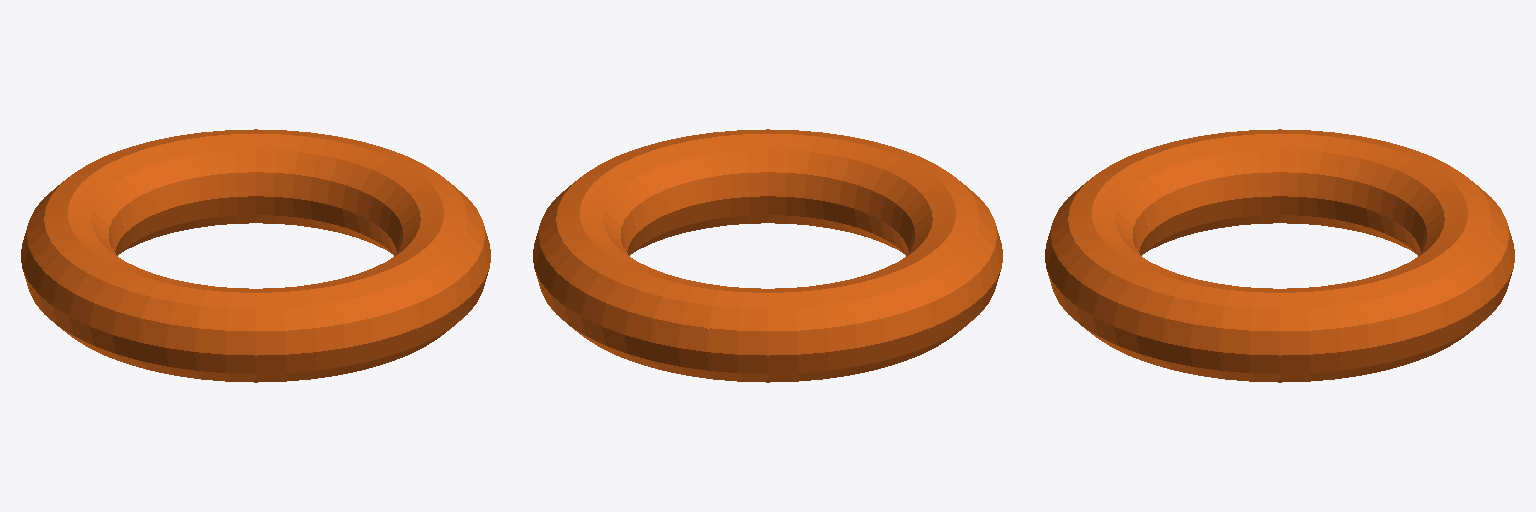
The picture shows the model from 3 angles: view 1: azimuth 30°, elevation 25°; view 2: azimuth 150°, elevation 25°; view 3: azimuth 270°, elevation 25°; orthographic projection.
Visible parts, largest first — view 1: トーラス; view 2: トーラス; view 3: トーラス.
Part boxes in pixels (bbox=[...]): トーラス: bbox=[21, 129, 490, 382]; トーラス: bbox=[533, 129, 1002, 382]; トーラス: bbox=[1045, 129, 1514, 382].
Size of the model in its own units: 2.5 by 0.5 by 2.5.
1 materials, 1 textured.